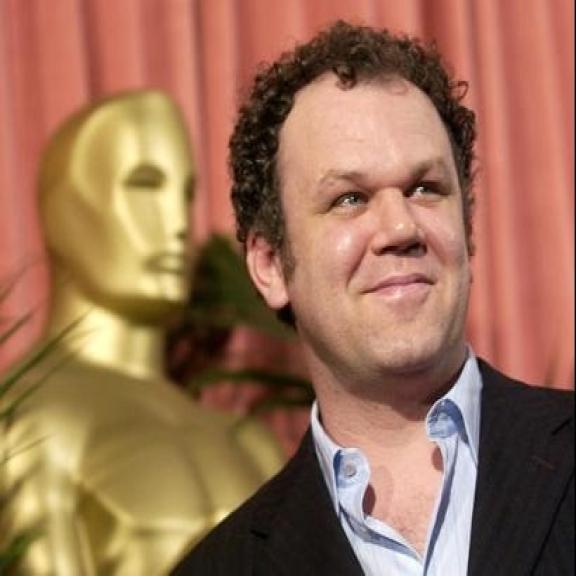face: (243, 83, 473, 370)
